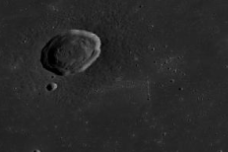crater: (3, 2, 186, 80)
